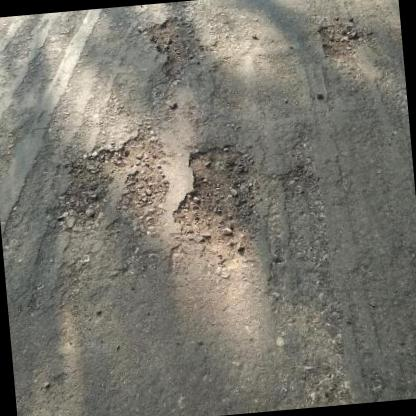pothole: (164, 138, 268, 272), (48, 146, 126, 230), (112, 131, 174, 228), (142, 14, 209, 86), (316, 19, 376, 62)
